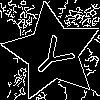Y: (27, 27, 83, 84)
